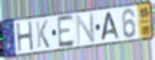6: (121, 8, 136, 40)
A: (100, 11, 120, 42)
E: (56, 13, 76, 50)
H: (15, 20, 35, 54)
K: (35, 19, 51, 50)
N: (75, 12, 97, 47)
